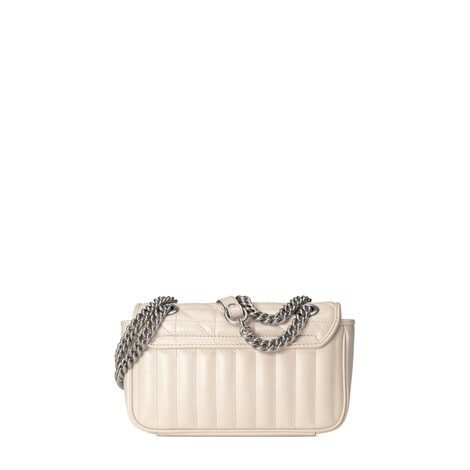Gucci: (100, 271, 367, 455)
